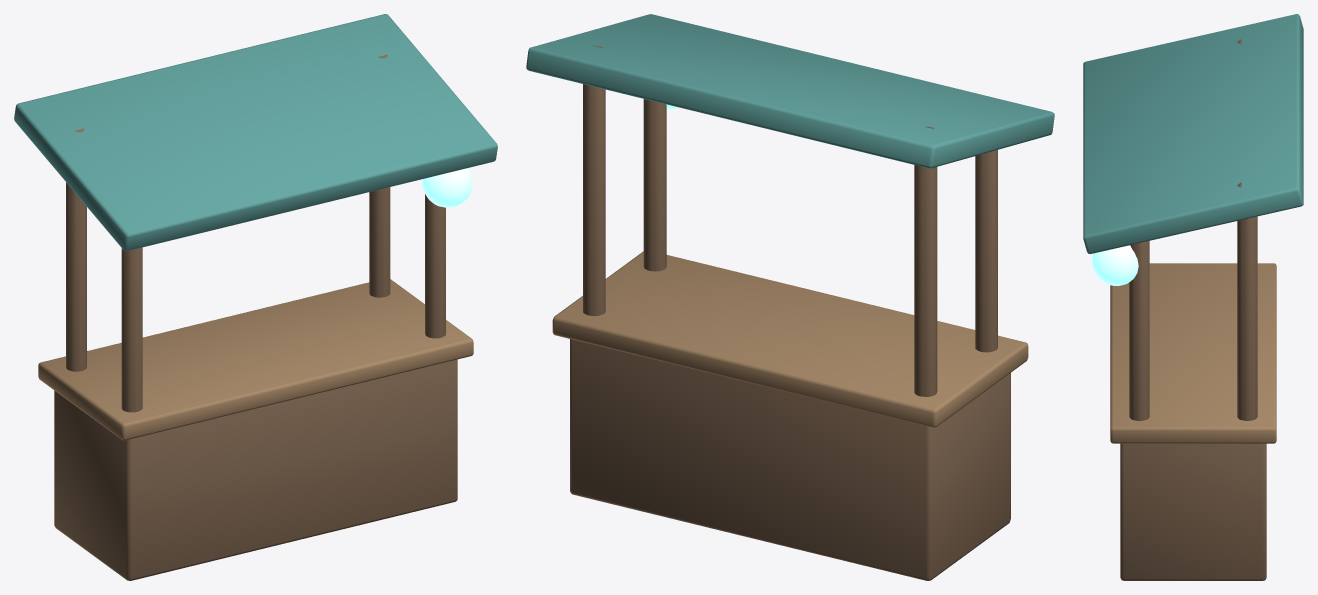
Rendered from vendor_stall.glb.
3 views of the same model, side by side, from view 1: azimuth 30°, elevation 25°; view 2: azimuth 150°, elevation 25°; view 3: azimuth 270°, elevation 25° (orthographic). The views are drawn at different scales.
Parts seen in each view (by area): view 1: Awning, Counter, CounterTop, PostBack_-1.1, Post_-1.1, Post_1.1, PostBack_1.1, SafeLantern; view 2: Counter, CounterTop, Awning, PostBack_-1.1, PostBack_1.1, Post_-1.1, Post_1.1; view 3: Awning, CounterTop, Counter, PostBack_1.1, Post_1.1, SafeLantern.
Part boxes in pixels (x1,y1,x2,y2): Awning: [14, 14, 497, 251]; Counter: [54, 359, 457, 580]; CounterTop: [38, 279, 473, 440]; PostBack_-1.1: [66, 128, 86, 371]; Post_-1.1: [121, 247, 142, 412]; Post_1.1: [425, 194, 445, 338]; PostBack_1.1: [369, 54, 390, 297]; SafeLantern: [422, 168, 472, 207]; Counter: [570, 339, 1010, 580]; CounterTop: [552, 251, 1028, 427]; Awning: [526, 14, 1054, 168]; PostBack_-1.1: [914, 126, 937, 396]; PostBack_1.1: [583, 45, 605, 315]; Post_-1.1: [975, 150, 997, 352]; Post_1.1: [643, 99, 666, 271]; Awning: [1083, 14, 1303, 253]; CounterTop: [1110, 263, 1276, 443]; Counter: [1120, 443, 1266, 580]; PostBack_1.1: [1237, 182, 1257, 420]; Post_1.1: [1129, 241, 1149, 420]; SafeLantern: [1091, 245, 1138, 285].
Size of the model in its own units: 2.7 by 2.89 by 1.43.
